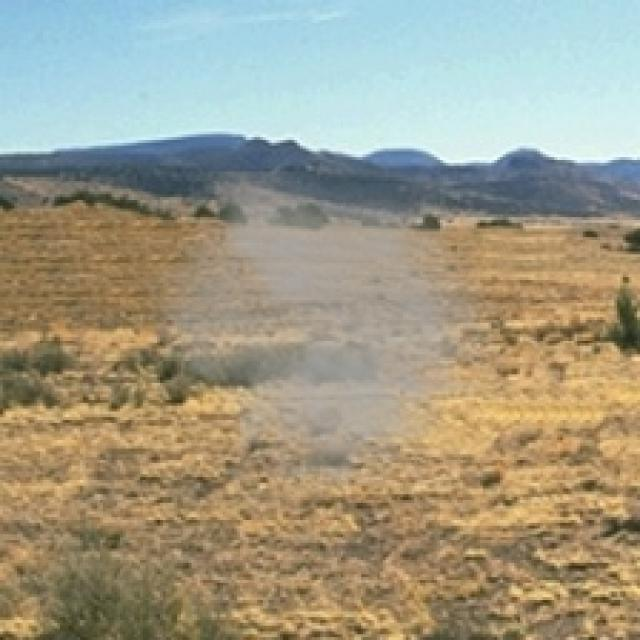Smoke: (134, 171, 517, 526)
